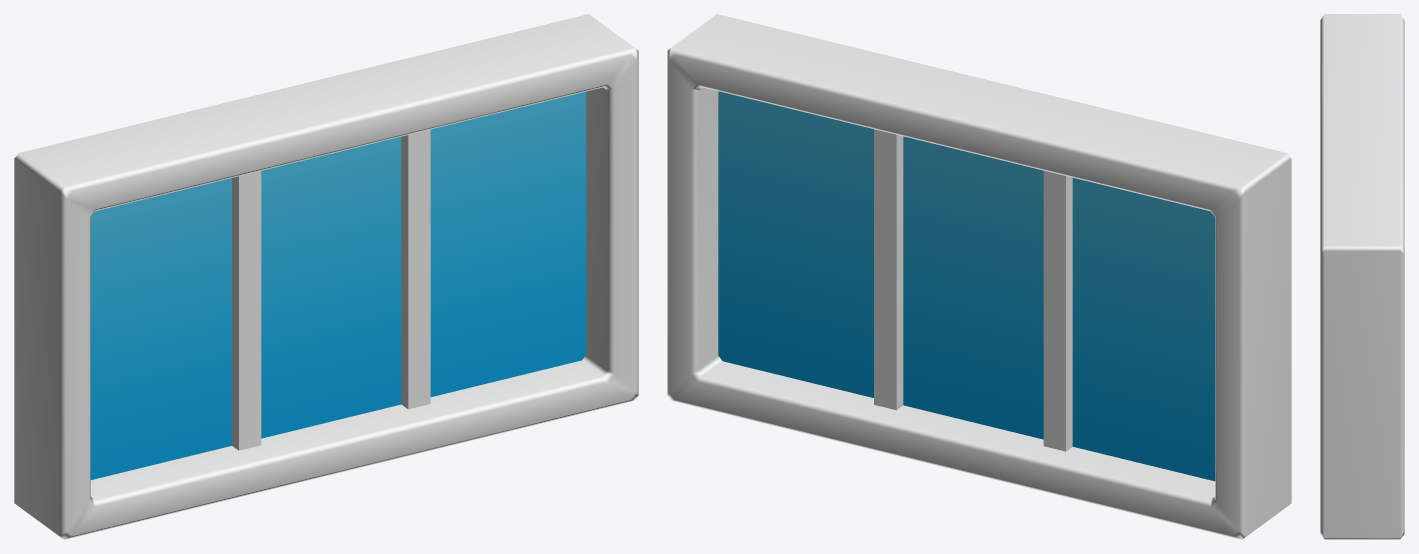
The model's file is Window_White_07.glb.
3 views of the same model, side by side, from view 1: azimuth 30°, elevation 25°; view 2: azimuth 150°, elevation 25°; view 3: azimuth 270°, elevation 25° (orthographic). The views are drawn at different scales.
Visible parts, largest first — view 1: Window_White_07; view 2: Window_White_07; view 3: Window_White_07.
Boxes of the visible parts, x1,y1,x2,y2 form: Window_White_07: [14, 14, 638, 539]; Window_White_07: [667, 14, 1291, 539]; Window_White_07: [1320, 14, 1404, 539].
Bounding box in the file's own units: 2.64 × 1.54 × 0.4.
Materials: 2 (2 with a texture image).
